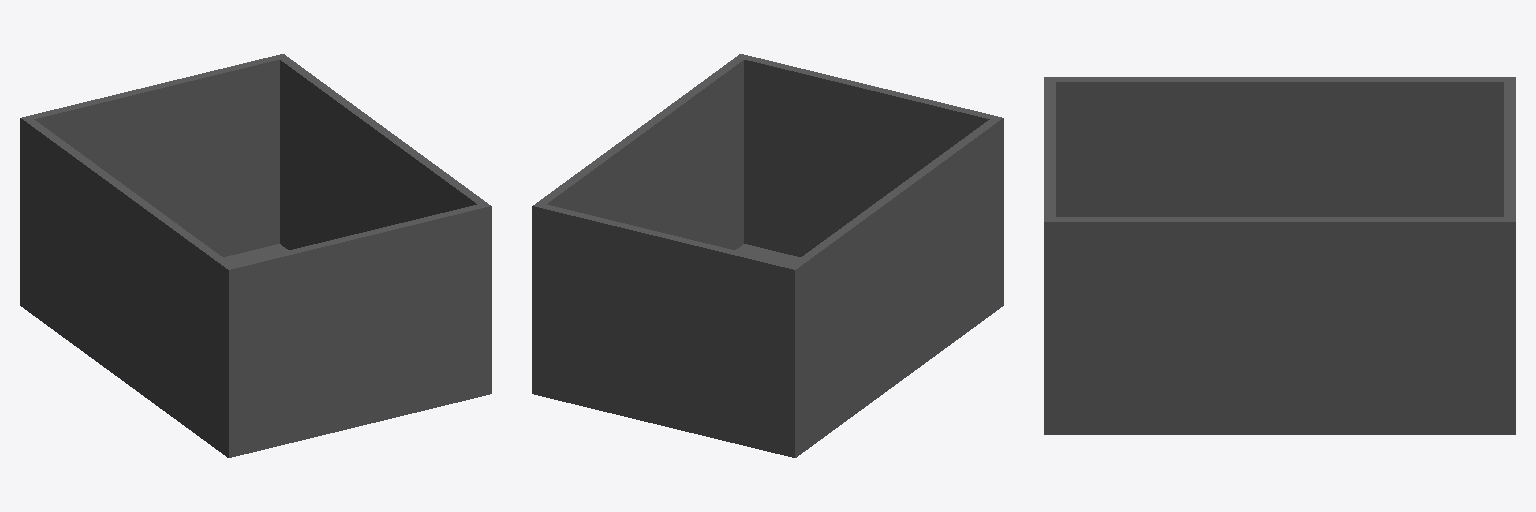
The robot description file, URDF, robot "myfirst":
<?xml version="1.0"?>
 <robot name="myfirst">
   <material name="DimGray">
     <color rgba="0.41176471 0.41176471 0.41176471 0.3"/>
   </material>
   <material name="Silver">
     <color rgba="0.75294118 0.75294118 0.75294118 1"/>
   </material>

   <link name="short_wall1">
     <visual>
       <geometry>
         <box size="0.231 0.345 0.0115"/>
       </geometry>
       <origin rpy="1.5707963 1.5707963 0" xyz="0.0 0.0 0.0"/>
       <material name="DimGray"/>
     </visual>
     <collision>
       <geometry>
         <box size="0.231 0.345 0.0115"/>
       </geometry>
       <origin rpy="1.5707963 1.5707963 0" xyz="0.0 0.0 0.0"/>
     </collision>
     <inertial>
       <mass value="1"/>
       <inertia ixx="1.0" ixy="0.0" ixz="0.0" iyy="1.0" iyz="0.0" izz="1.0"/>
     </inertial>
   </link>

   <link name="long_wall1">
     <visual>
       <geometry>
         <box size="0.231 0.45 0.0115"/>
       </geometry>
       <origin rpy="1.5707963 1.5707963 1.5707963" xyz="0.0 0.0 0.0"/>
       <material name="DimGray"/>
     </visual>
     <collision>
       <geometry>
         <box size="0.231 0.45 0.0115"/>
       </geometry>
       <origin rpy="1.5707963 1.5707963 1.5707963" xyz="0.0 0.0 0.0"/>
     </collision>
     <inertial>
       <mass value="1"/>
       <inertia ixx="1.0" ixy="0.0" ixz="0.0" iyy="1.0" iyz="0.0" izz="1.0"/>
     </inertial>
   </link>

   <link name="short_wall2">
     <visual>
       <geometry>
         <box size="0.231 0.345 0.0115"/>
       </geometry>
       <origin rpy="1.5707963 1.5707963 0" xyz="0.0 0.0 0.0"/>
       <material name="DimGray"/>
     </visual>
     <collision>
       <geometry>
         <box size="0.231 0.345 0.0115"/>
       </geometry>
       <origin rpy="1.5707963 1.5707963 0" xyz="0.0 0.0 0.0"/>
     </collision>
     <inertial>
       <mass value="1"/>
       <inertia ixx="1.0" ixy="0.0" ixz="0.0" iyy="1.0" iyz="0.0" izz="1.0"/>
     </inertial>
   </link>

   <link name="long_wall2">
     <visual>
       <geometry>
         <box size="0.231 0.45 0.0115"/>
       </geometry>
       <origin rpy="1.5707963 1.5707963 1.5707963" xyz="0.0 0.0 0.0"/>
       <material name="DimGray"/>
     </visual>
     <collision>
       <geometry>
         <box size="0.231 0.345 0.0115"/>
       </geometry>
       <origin rpy="1.5707963 1.5707963 1.5707963" xyz="0.0 0.0 0.0"/>
     </collision>
     <inertial>
       <mass value="1"/>
       <inertia ixx="1.0" ixy="0.0" ixz="0.0" iyy="1.0" iyz="0.0" izz="1.0"/>
     </inertial>
   </link>

   <link name="base">
     <visual>
       <geometry>
         <box size="0.345 0.473 0.005"/>
       </geometry>
       <origin rpy="0 0 0" xyz="0.0 0.0 0.0"/>
       <material name="DimGray"/>
     </visual>
     <collision>
       <geometry>
         <box size="0.345 0.473 0.005"/>
       </geometry>
       <origin rpy="0 0 0" xyz="0.0 0.0 -0.0025"/>
     </collision>
     <inertial>
       <mass value="1"/>
       <inertia ixx="1.0" ixy="0.0" ixz="0.0" iyy="1.0" iyz="0.0" izz="1.0"/>
     </inertial>
   </link>


    <joint name="base_to_long_wall1" type="fixed">
      <parent link="base"/>
      <child link="long_wall1"/>
      <origin xyz="0.16675 0 0.118"/>
    </joint>

    <joint name="base_to_long_wall2" type="fixed">
      <parent link="base"/>
      <child link="long_wall2"/>
      <origin xyz="-0.16675 0 0.118"/>
    </joint>

    <joint name="base_to_short_wall1" type="fixed">
      <parent link="base"/>
      <child link="short_wall1"/>
      <origin xyz="0.0 0.23075 0.118"/>
    </joint>

    <joint name="base_to_short_wall2" type="fixed">
      <parent link="base"/>
      <child link="short_wall2"/>
      <origin xyz="0.0 -0.23075 0.118"/>
    </joint>

 </robot>

--- What the picture shows (computed from the rendered views, not written in the file) ---
The picture shows the robot from 3 angles, left to right: view 1: azimuth 30°, elevation 25°; view 2: azimuth 150°, elevation 25°; view 3: azimuth 270°, elevation 25°; orthographic projection.
Robot: myfirst — 5 links, 4 joints (4 fixed); root link base; default pose: all joints at 0.
Links seen in each view (by area): view 1: short_wall2, long_wall2, short_wall1, long_wall1, base; view 2: short_wall1, long_wall2, short_wall2, long_wall1, base; view 3: long_wall1, long_wall2, short_wall1, short_wall2, base.
Boxes of the visible links, x1,y1,x2,y2 form: short_wall2: (224,202,491,453); long_wall2: (26,120,230,450); short_wall1: (20,54,287,305); long_wall1: (280,57,485,249); base: (20,244,491,457); short_wall1: (532,202,799,453); long_wall2: (793,120,997,450); short_wall2: (736,54,1003,305); long_wall1: (538,57,743,249); base: (532,244,1003,457); long_wall1: (1056,217,1503,430); long_wall2: (1056,77,1503,216); short_wall1: (1504,77,1515,430); short_wall2: (1044,77,1055,430); base: (1044,431,1515,434).
Size in the robot's own frame: 0.345 by 0.473 by 0.236 metres.
Geometry: primitives only (box / cylinder / sphere), no mesh files.
